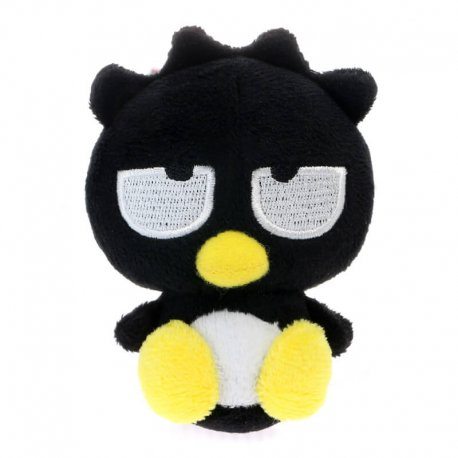batsumaru: (87, 27, 376, 434)
